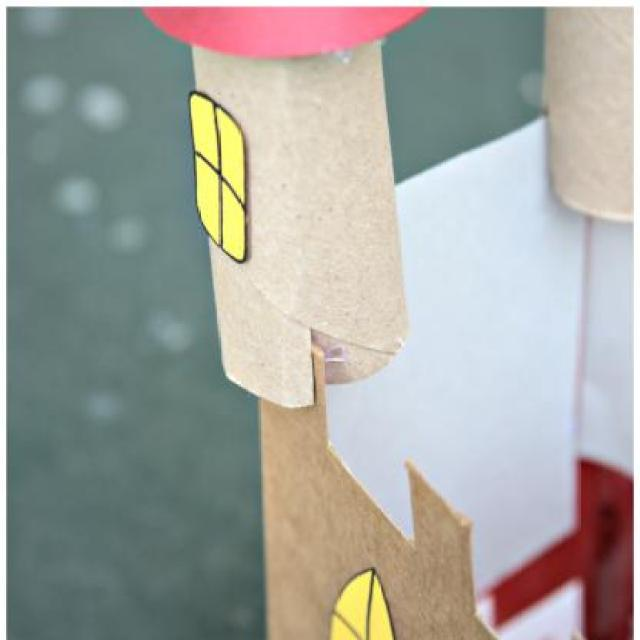box: (170, 7, 442, 409), (215, 346, 561, 640)
